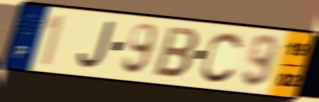1: (40, 13, 66, 67)
9: (240, 32, 278, 91), (121, 22, 159, 76)
B: (151, 24, 202, 81)
C: (200, 30, 246, 86)
J: (76, 20, 118, 71)
